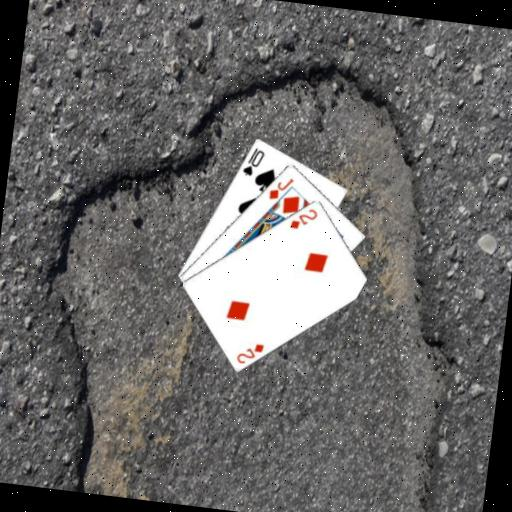10S: (239, 143, 267, 179)
2D: (287, 203, 321, 233), (233, 338, 267, 368)
JD: (265, 172, 296, 203)
